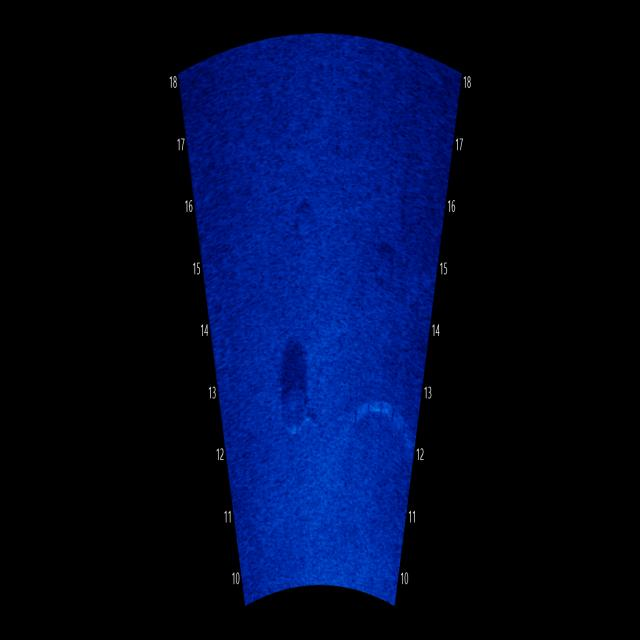circle: (268, 367, 324, 448), (368, 233, 402, 298), (290, 182, 322, 248)
